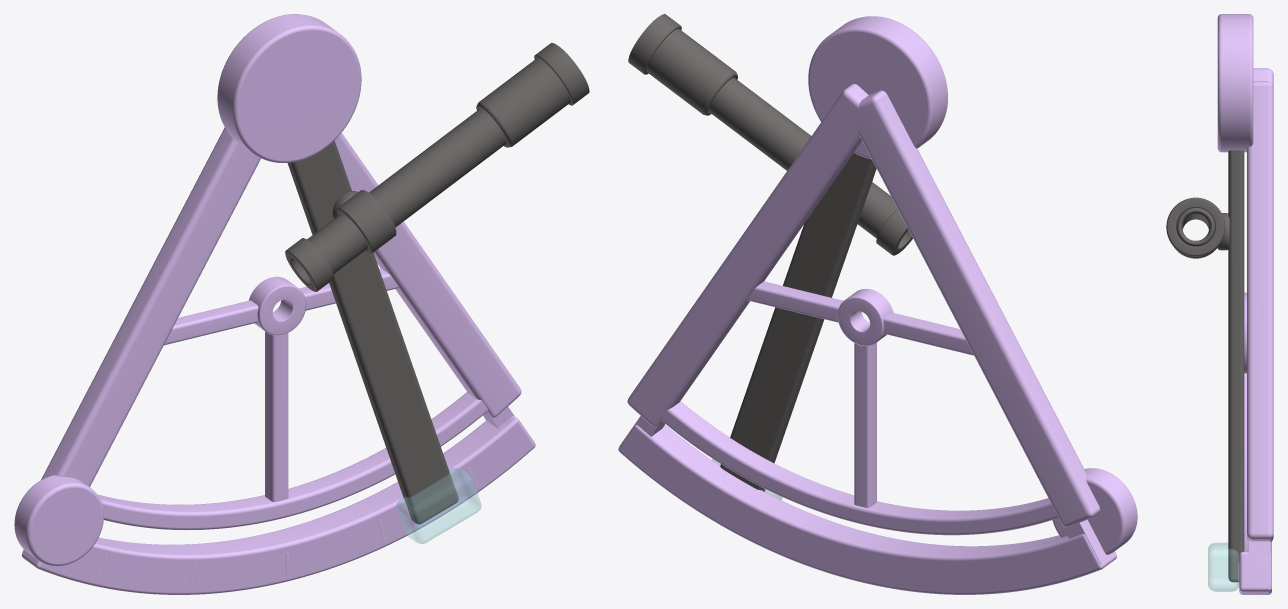
File: api-gateway-route.glb
3 views of the same model, side by side, from view 1: azimuth 30°, elevation 25°; view 2: azimuth 150°, elevation 25°; view 3: azimuth 270°, elevation 25° (orthographic). The views are drawn at different scales.
Parts seen in each view (by area): view 1: Graduated outer arc, Port frame leg, Nickel index arm, Round apex pivot, Starboard frame leg, Split scale inner rail, Diagonal telescope barrel, Round port scale cap, Objective sleeve, Lower T brace, Cyan packet slider, Pierced brace eye (+5 smaller); view 2: Graduated outer arc, Port frame leg, Starboard frame leg, Nickel index arm, Round apex pivot, Split scale inner rail, Diagonal telescope barrel, Objective sleeve, Lower T brace, Round port scale cap, Pierced brace eye, Right T brace (+3 smaller); view 3: Starboard frame leg, Nickel index arm, Round apex pivot, Graduated outer arc, Objective rim, Cyan packet slider, Diagonal telescope barrel, Right scale end, Port frame leg, Index arm mounting boss, Round port scale cap.
Part boxes in pixels (x1,y1,x2,y2): Graduated outer arc: (21,416,535,594); Port frame leg: (41,127,260,486); Nickel index arm: (287,140,458,524); Round apex pivot: (217,14,361,162); Starboard frame leg: (334,132,521,417); Split scale inner rail: (97,392,488,530); Diagonal telescope barrel: (307,108,506,274); Round port scale cap: (14,475,103,566); Objective sleeve: (476,58,570,147); Lower T brace: (265,331,288,501); Cyan packet slider: (397,467,480,543); Pierced brace eye: (249,276,306,335); Graduated outer arc: (618,425,1116,594); Port frame leg: (850,90,1100,527); Starboard frame leg: (627,84,868,426); Nickel index arm: (720,153,876,491); Round apex pivot: (808,16,947,159); Split scale inner rail: (661,401,1058,535); Diagonal telescope barrel: (708,77,897,238); Objective sleeve: (646,29,737,115); Lower T brace: (854,342,876,507); Round port scale cap: (1052,468,1137,554); Pierced brace eye: (837,288,893,345); Right T brace: (747,281,843,322); Starboard frame leg: (1247,81,1273,542); Nickel index arm: (1228,150,1244,582); Round apex pivot: (1217,14,1253,152); Graduated outer arc: (1239,373,1271,594); Objective rim: (1166,197,1225,256); Cyan packet slider: (1208,543,1238,591); Diagonal telescope barrel: (1176,208,1215,246); Right scale end: (1248,540,1270,586); Port frame leg: (1253,68,1273,86); Index arm mounting boss: (1217,213,1229,250); Round port scale cap: (1244,292,1246,373).
Bounding box in the file's own units: 3.46 × 3.47 × 0.641.
